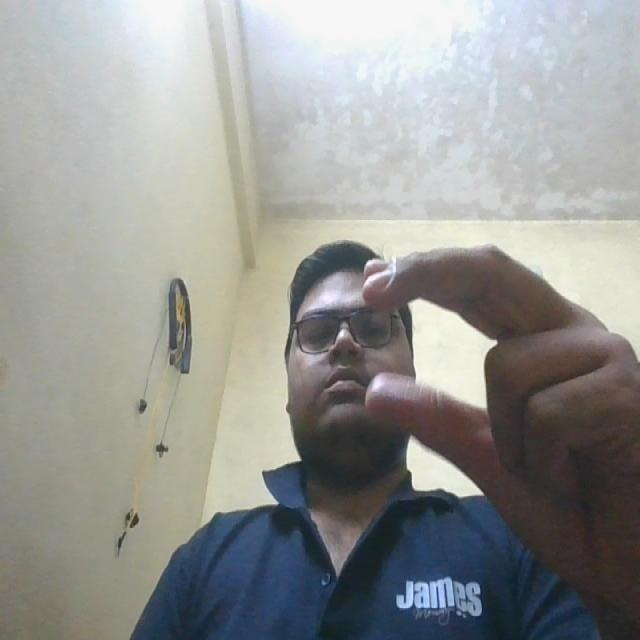No: (345, 220, 640, 583)
